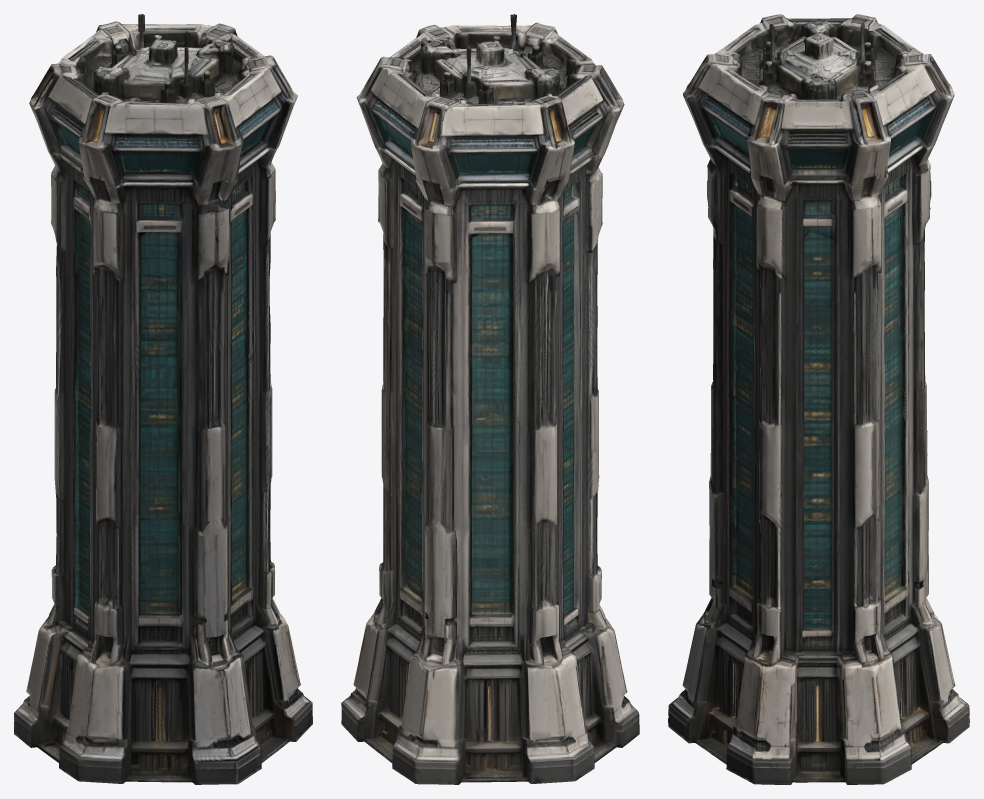
File: kairox-tower-crowned.glb
3 views of the same model, side by side, from view 1: azimuth 30°, elevation 25°; view 2: azimuth 150°, elevation 25°; view 3: azimuth 270°, elevation 25° (orthographic).
Parts seen in each view (by area): view 1: kairox-tower-crowned; view 2: kairox-tower-crowned; view 3: kairox-tower-crowned.
Boxes of the visible parts, x1=… form: kairox-tower-crowned: x1=14, y1=14, x2=312, y2=784; kairox-tower-crowned: x1=341, y1=14, x2=639, y2=784; kairox-tower-crowned: x1=668, y1=14, x2=969, y2=784.
Size of the model in its own units: 28.34 by 80 by 31.11.
1 material, 1 textured.
